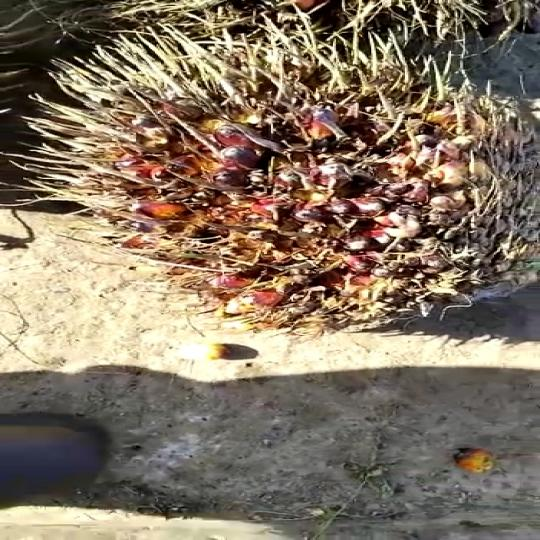terlalu masak: (7, 7, 540, 330)
